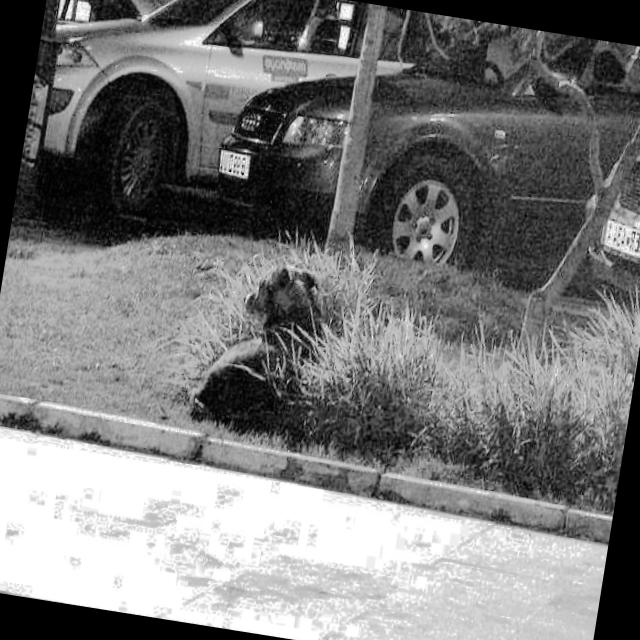Dog: (170, 267, 368, 468)
